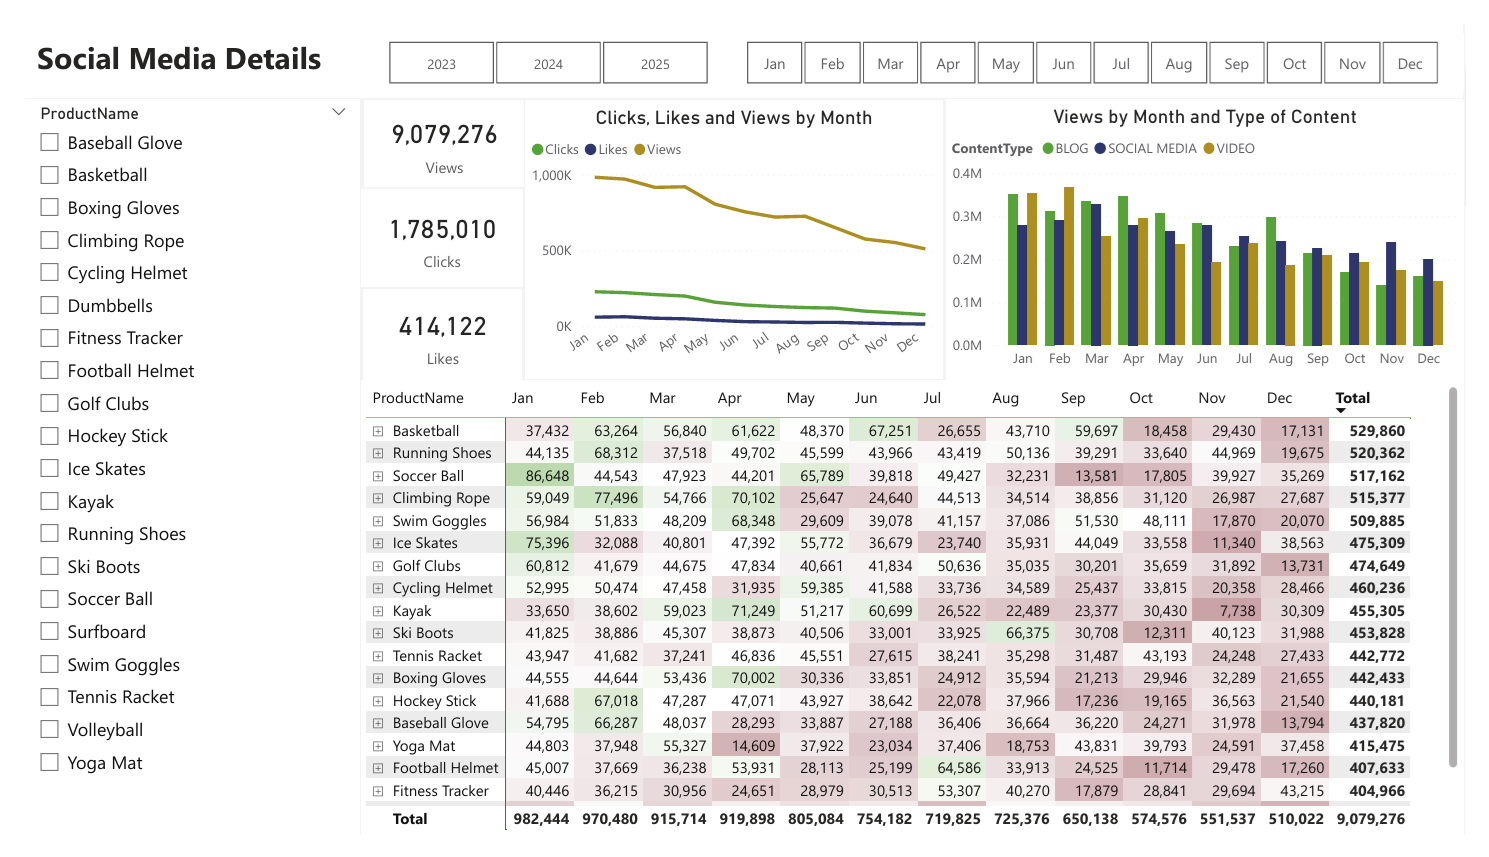

What the dashboard file says about the page in this screenshot:
{"tool":"powerbi","page":{"name":"Social Media Details","canvas":[1280,720],"ordinal":2},"visuals":[{"type":"textbox","box":[0,0,1278.5,64.7],"z":0},{"type":"slicer","fields":{"Values":["products.ProductName"]},"box":[0,65.6,296.7,654.1],"z":1000},{"type":"card","fields":{"Values":["Calculations.Views"]},"box":[300.5,67.2,142.1,77],"z":2000},{"type":"card","fields":{"Values":["Calculations.Likes"]},"box":[299.8,234.7,140.8,81.8],"z":3000},{"type":"card","fields":{"Values":["Calculations.Clicks"]},"box":[298.4,145.9,143.2,86.9],"z":4000},{"type":"slicer","fields":{"Values":["Calendar.Year"]},"box":[296.7,8.2,332.8,50.8],"z":5000},{"type":"slicer","fields":{"Values":["Calendar.MonthNameShort"]},"box":[614.5,8.1,664.9,50.4],"z":6000},{"type":"lineChart","title":"Clicks, Likes and Views by Month","fields":{"Category":["Calendar.MonthNameShort"],"Y":["Calculations.Clicks","Calculations.Likes","Calculations.Views"]},"box":[444.3,66.7,370.5,248.1],"z":7000},{"type":"clusteredColumnChart","title":"Views by Month and Type of Content","fields":{"Category":["Calendar.MonthNameShort"],"Y":["Calculations.Views"],"Series":["fact_engagement_data.ContentType"]},"box":[818,65.6,460.3,249.2],"z":8000},{"type":"qnaVisual","box":[439,347.9,349.5,372],"z":9000},{"type":"pivotTable","fields":{"Values":["Calculations.Views"],"Rows":["products.ProductName","fact_engagement_data.ContentType"],"Columns":["Calendar.MonthNameShort"]},"box":[298.4,316.4,980,403.3],"z":10000}]}

Visuals, with their boxes in screenshot pixels (x1, y1, x2, y2), scaled from the page's 1280x720 canvas onto the 1489x857 screenshot:
textbox: (left=0, top=0, right=1487, bottom=77)
slicer - products.ProductName: (left=0, top=78, right=345, bottom=856)
card - Calculations.Views: (left=350, top=80, right=515, bottom=172)
card - Calculations.Likes: (left=349, top=279, right=513, bottom=377)
card - Calculations.Clicks: (left=347, top=174, right=514, bottom=277)
slicer - Calendar.Year: (left=345, top=10, right=732, bottom=70)
slicer - Calendar.MonthNameShort: (left=715, top=10, right=1488, bottom=70)
"Clicks, Likes and Views by Month" lineChart: (left=517, top=79, right=948, bottom=375)
"Views by Month and Type of Content" clusteredColumnChart: (left=952, top=78, right=1487, bottom=375)
qnaVisual: (left=511, top=414, right=917, bottom=856)
pivotTable - Calculations.Views x products.ProductName: (left=347, top=377, right=1487, bottom=856)
